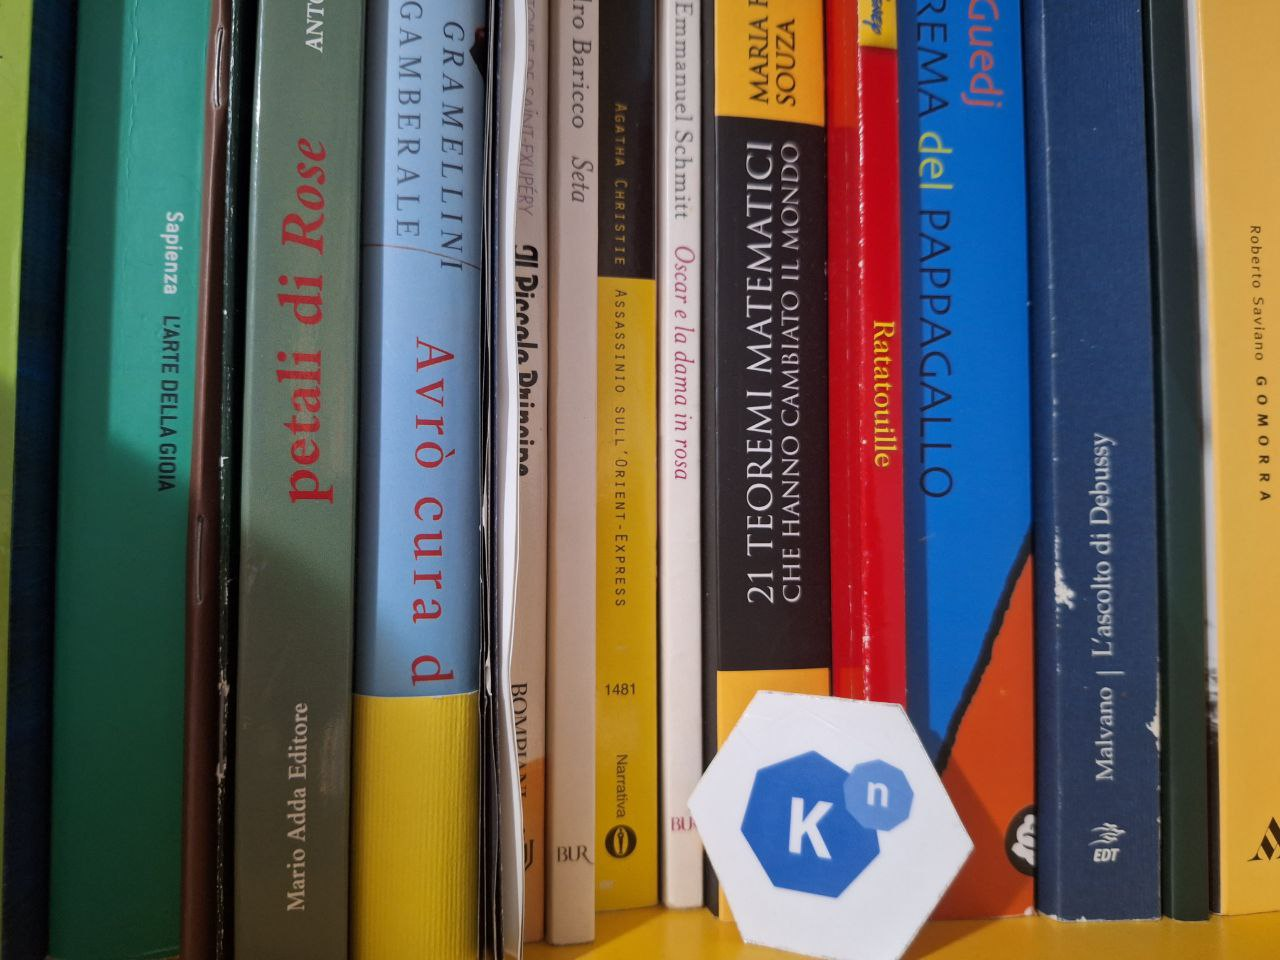knative: (742, 747, 917, 899)
